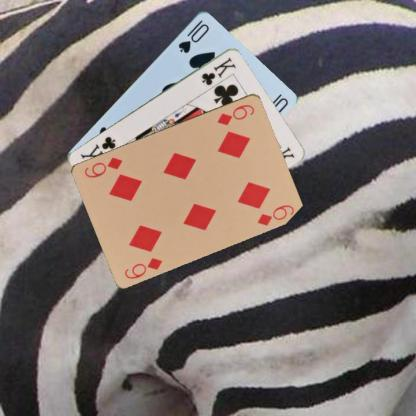10s: (175, 17, 210, 54)
6d: (214, 101, 256, 127), (122, 254, 164, 280)
Kc: (199, 54, 237, 87)
